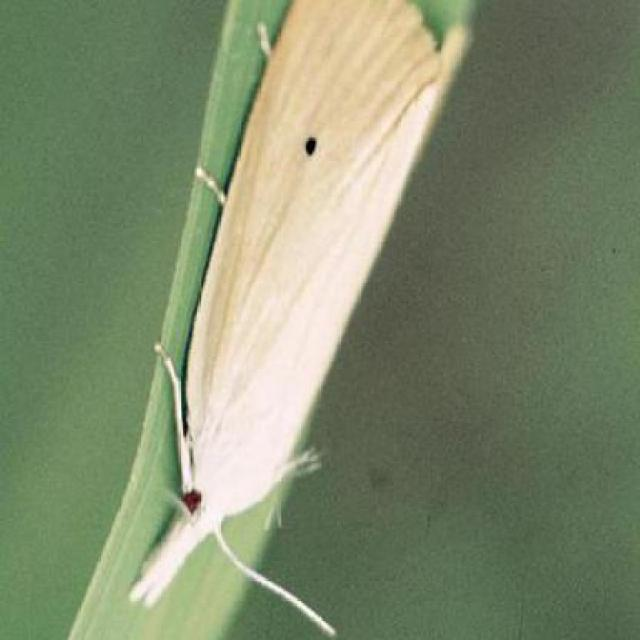stem-borer: (119, 0, 476, 615)
